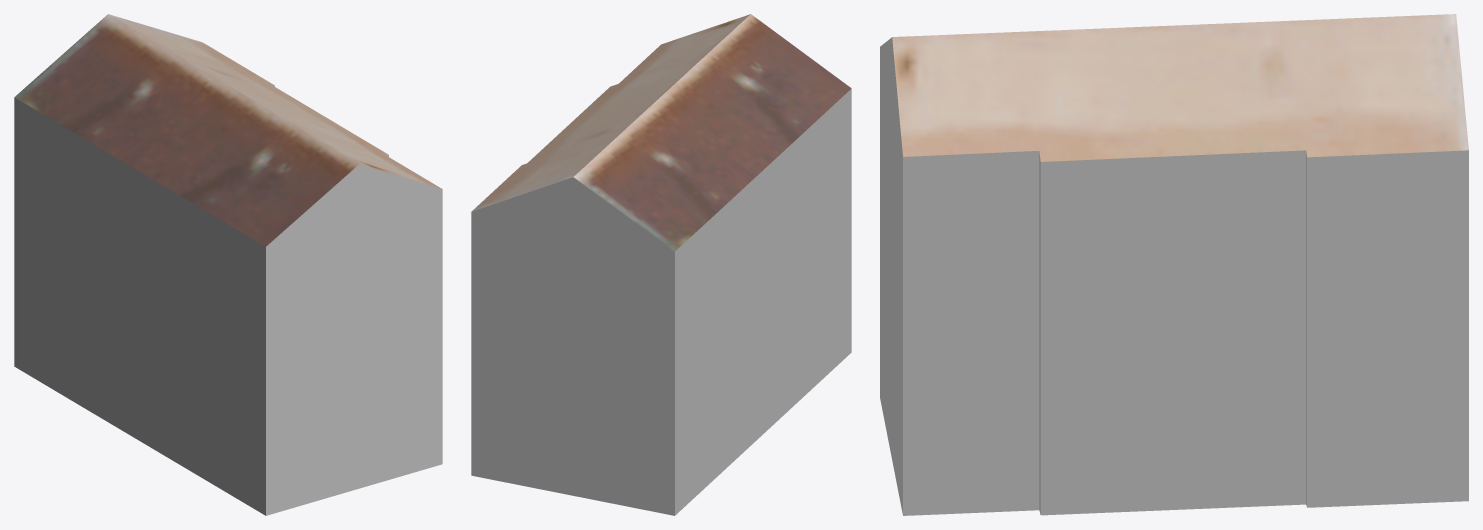
Rendered from DEBW_0010007Txis.gltf.
The picture shows the model from 3 angles, left to right: view 1: azimuth 30°, elevation 25°; view 2: azimuth 150°, elevation 25°; view 3: azimuth 270°, elevation 25°; orthographic projection. The views are drawn at different scales.
Parts seen in each view (by area): view 1: Z_UP; view 2: Z_UP; view 3: Z_UP.
Part boxes in pixels (x1,y1,x2,y2): Z_UP: [14, 14, 442, 515]; Z_UP: [471, 14, 851, 515]; Z_UP: [880, 14, 1468, 515].
Bounding box in the file's own units: 10.85 × 15.24 × 19.18.
2 materials, 1 textured.
